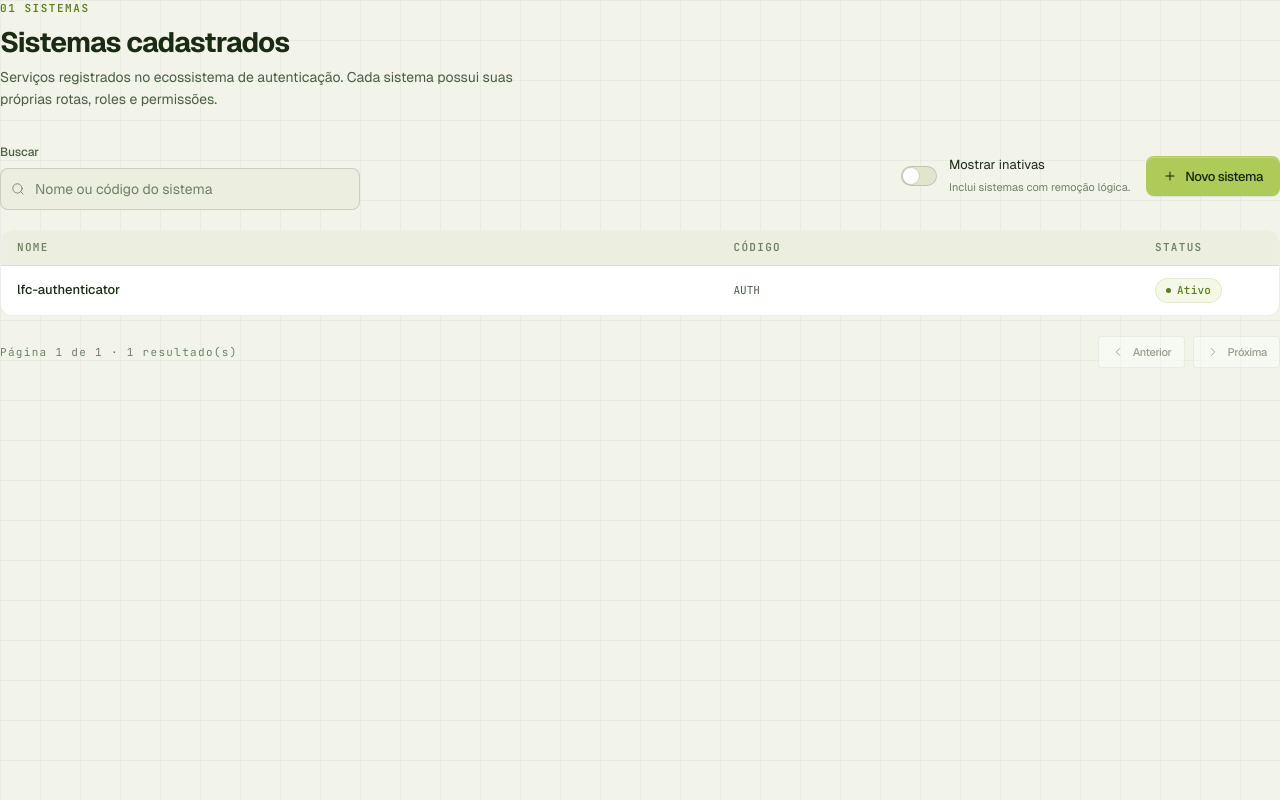
Test: SystemsPage — criação (Issue #58) › abertura e fechamento do modal › fechar via Esc não dispara POST
Click the button with test id "systems-create-open" at (1213, 176), box [1146,156,1279,196]
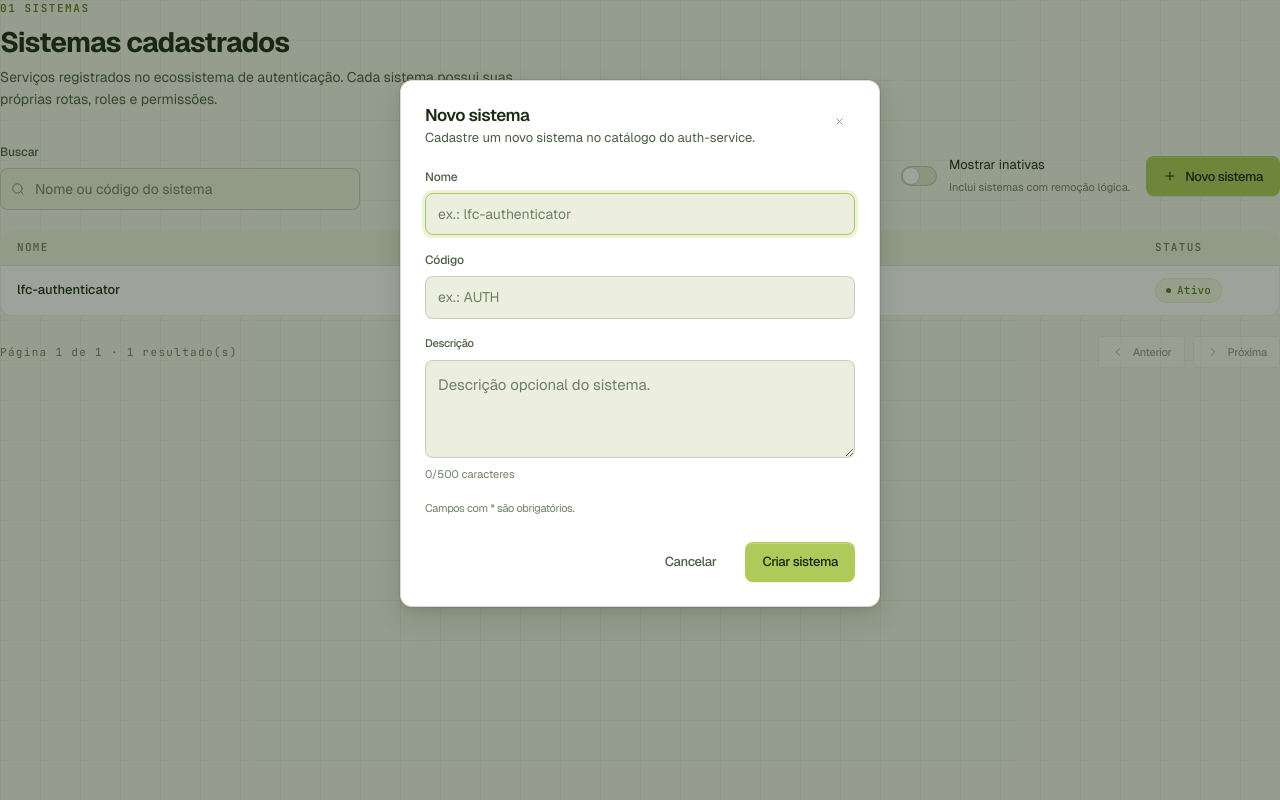
Result: the dialog is shown at [400,80,880,606]
Press Escape
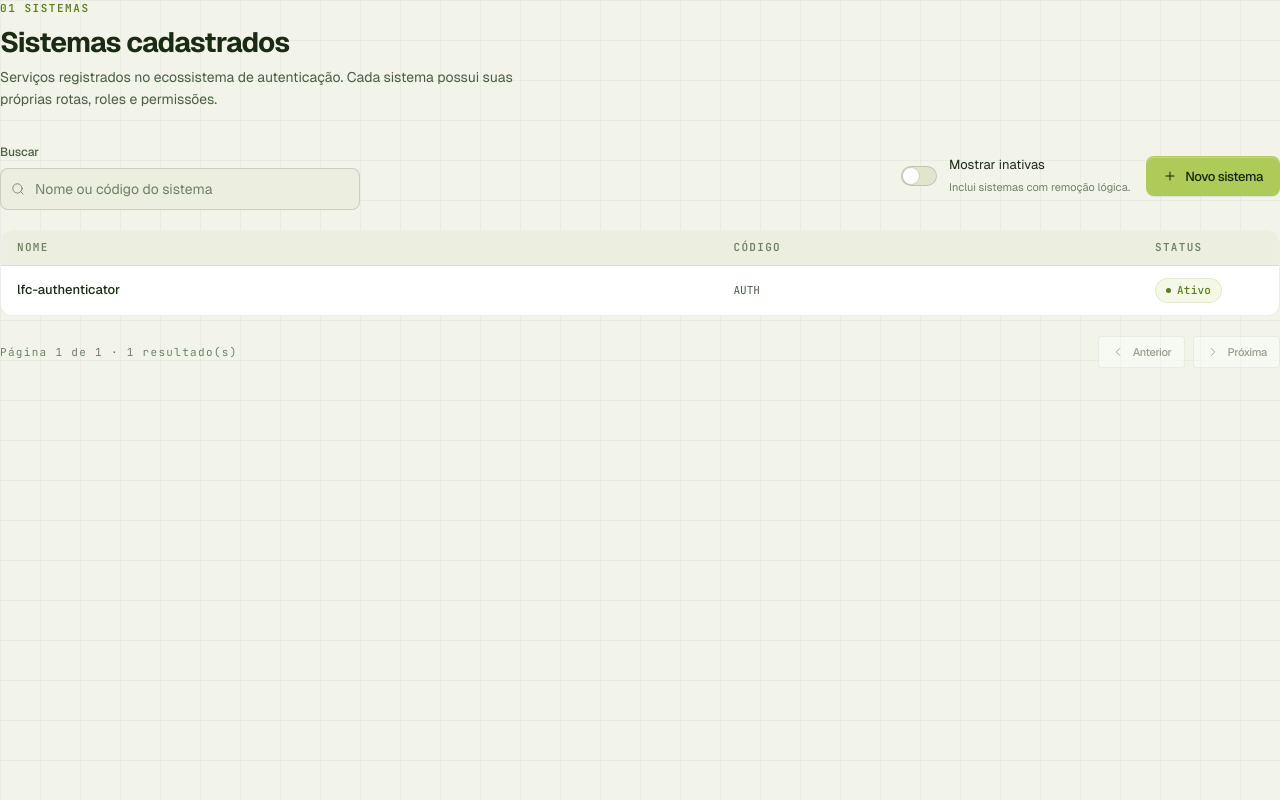
Result: the dialog is gone
